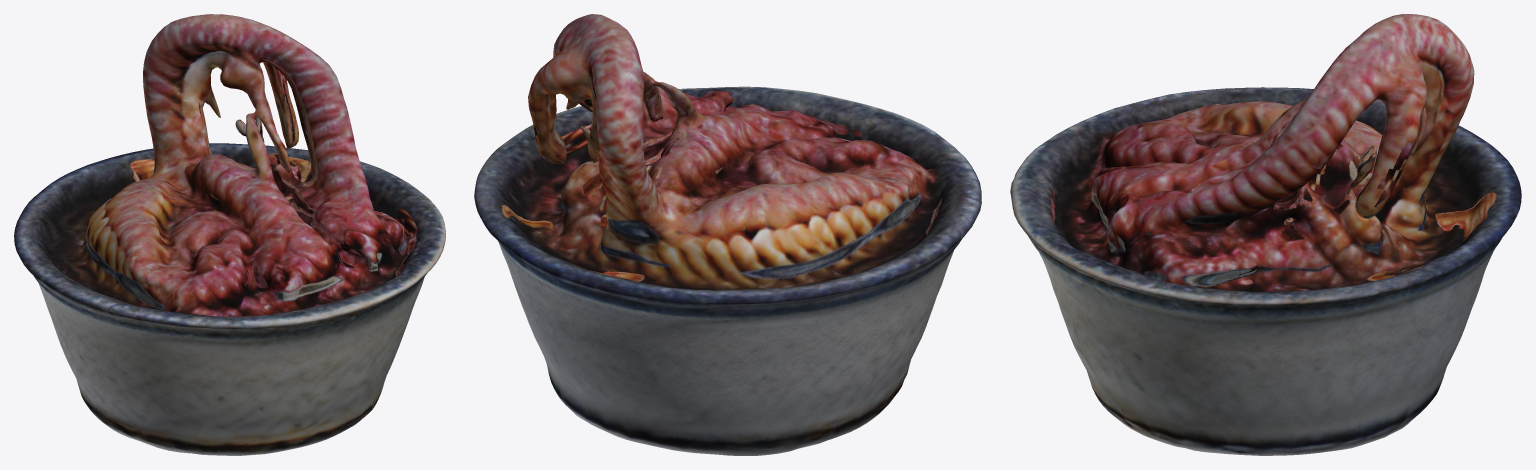
Rendered from d54f812d5b3d_dog_bowl_filled_wit.fbx.
3 renders of one model, left to right at view 1: azimuth 30°, elevation 25°; view 2: azimuth 150°, elevation 25°; view 3: azimuth 270°, elevation 25°, orthographic. The views are drawn at different scales.
Parts seen in each view (by area): view 1: mesh; view 2: mesh; view 3: mesh.
Boxes of the visible parts, x1,y1,x2,y2 form: mesh: (14,14,445,455); mesh: (474,14,981,455); mesh: (1010,14,1521,455).
Size of the model in its own units: 99.76 by 84.86 by 99.94.
